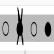correct: (44, 20, 52, 38)
no answer: (2, 19, 10, 37), (31, 20, 38, 38)
not correct: (16, 5, 24, 46)
